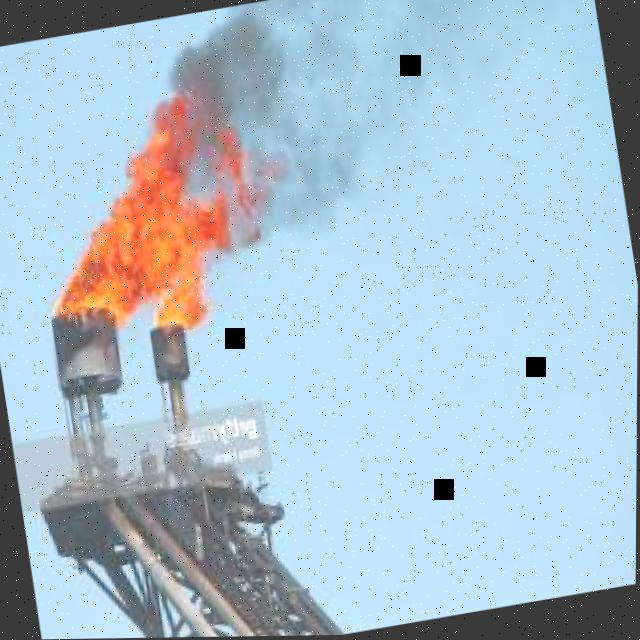fire: (54, 82, 234, 332), (208, 124, 259, 247)
smoke: (167, 0, 464, 244)
